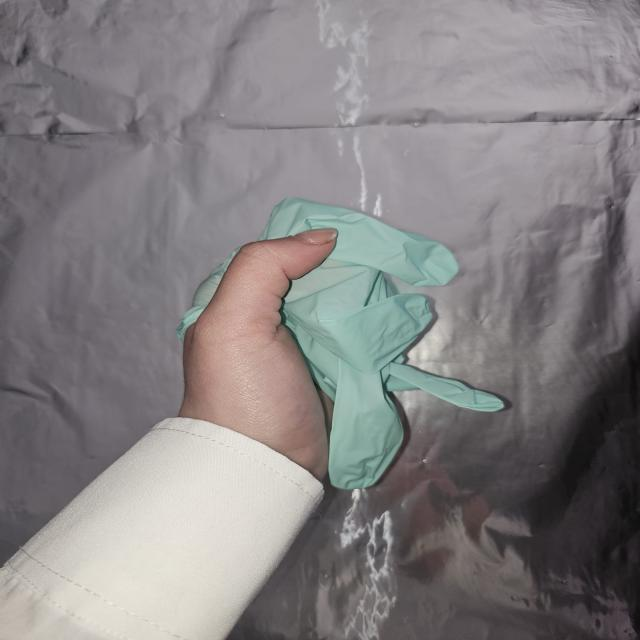glove_partial: (177, 197, 508, 490)
